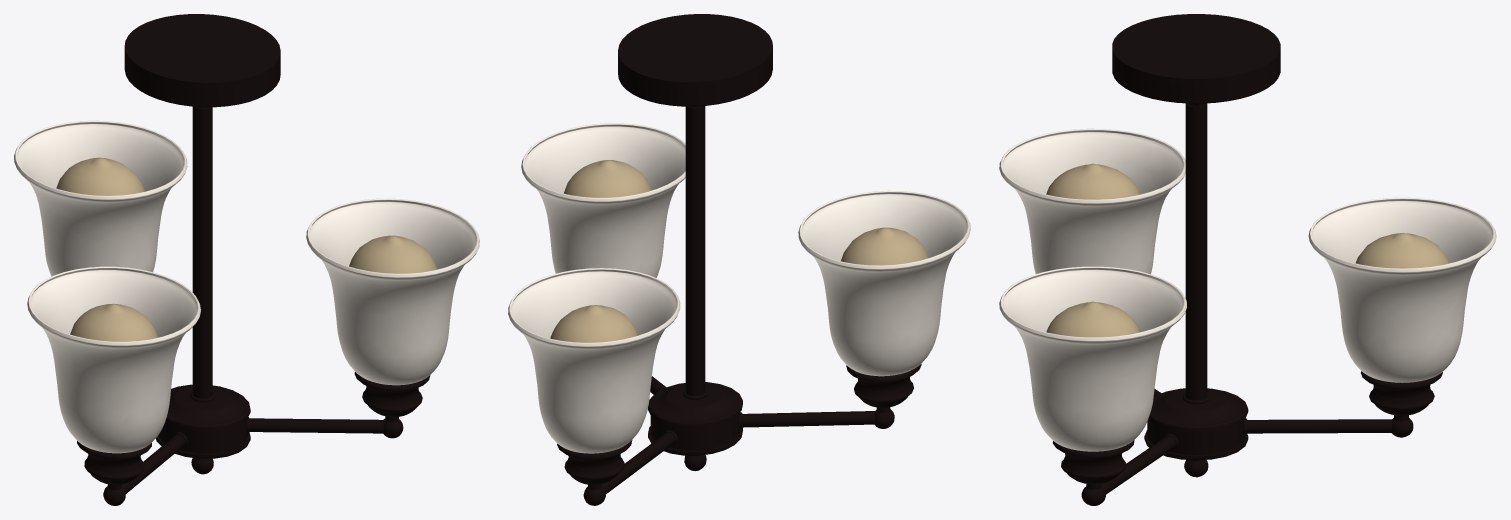
The model's file is abo-B07MBFD6GX.glb.
3 views of the same model, side by side, from view 1: azimuth 30°, elevation 25°; view 2: azimuth 150°, elevation 25°; view 3: azimuth 270°, elevation 25° (orthographic).
Bounding box in the file's own units: 0.388 × 0.37 × 0.388.
1 material, 1 textured.
